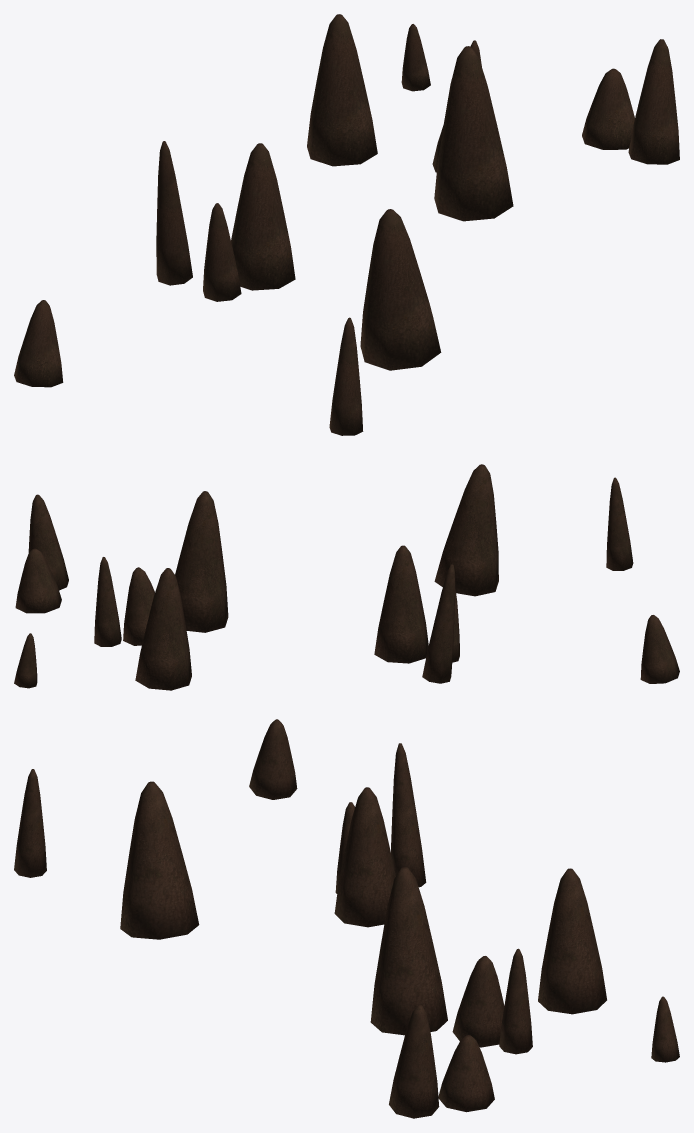
File: baldcypress_knees_v02.fbx
3 views of the same model, one above another, from view 1: azimuth 30°, elevation 25°; view 2: azimuth 150°, elevation 25°; view 3: azimuth 270°, elevation 25° (orthographic). The views are drawn at different scales.
Visible parts, largest first — view 1: baldcypress_knees_v02; view 2: baldcypress_knees_v02; view 3: baldcypress_knees_v02.
Boxes of the visible parts, x1=… form: baldcypress_knees_v02: x1=14, y1=14, x2=679, y2=435; baldcypress_knees_v02: x1=14, y1=464, x2=679, y2=690; baldcypress_knees_v02: x1=14, y1=719, x2=679, y2=1118.
Size of the model in its own units: 393 by 326 by 83.32.
1 material, 1 textured.
